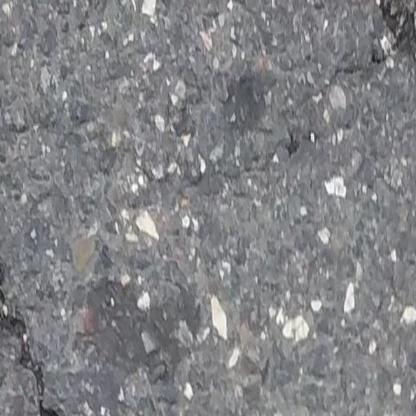Cracks: (0, 215, 75, 416), (369, 0, 416, 84)
